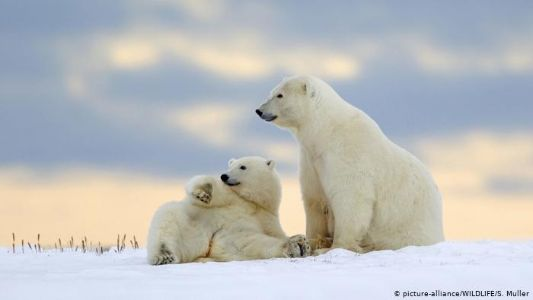bear: (258, 73, 447, 251), (145, 151, 311, 271)
